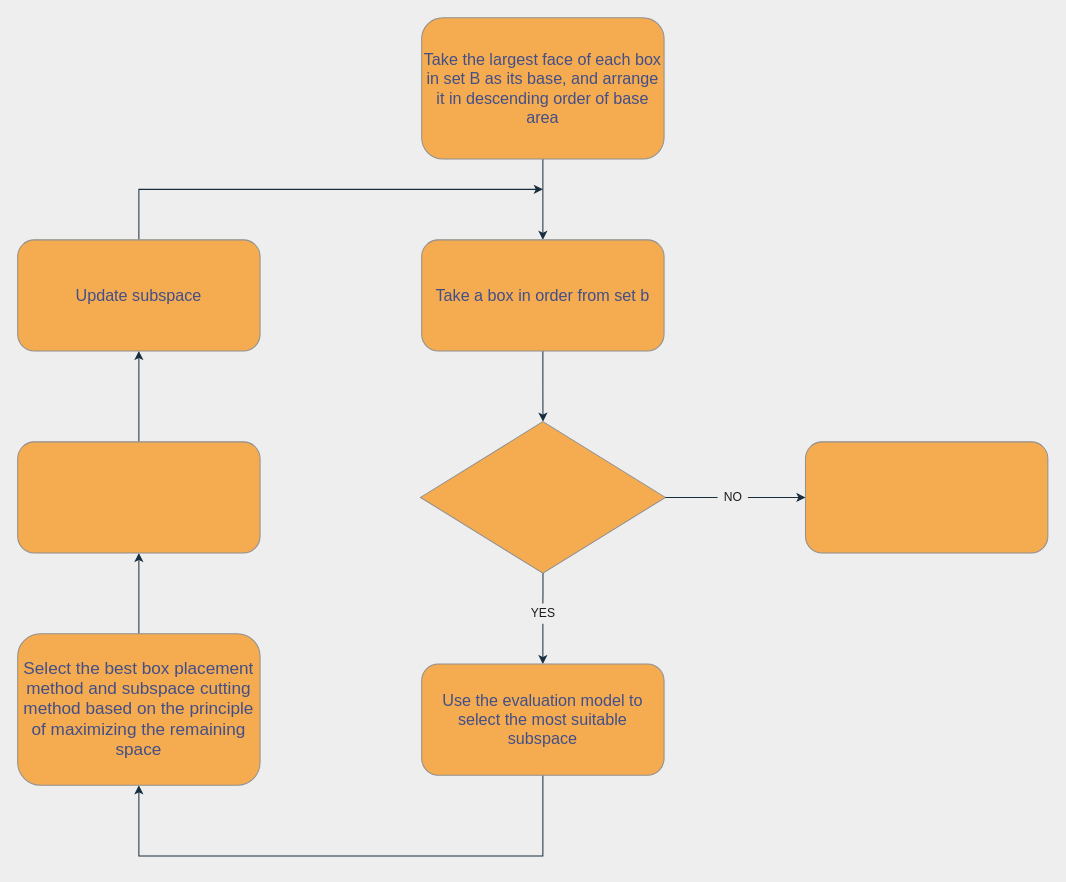
Some shapes in this 1066 by 882 pixel diagram are drawn without their labels. Here are the shapes that lost their labels. From the top down, the box of each, then its label:
(17, 441, 260, 553): Put the box into the corresponding subspace as above
(419, 421, 665, 573): Is there any subspace to hold this box?
(804, 441, 1048, 553): Finished
